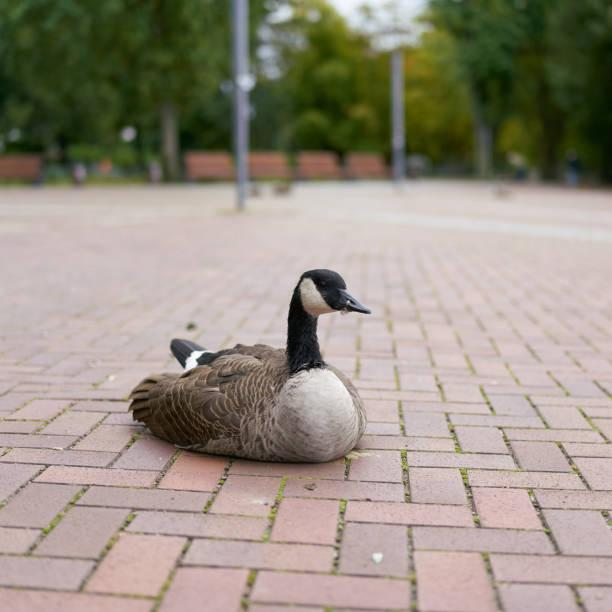Canadian-Goose: (125, 263, 381, 461)
